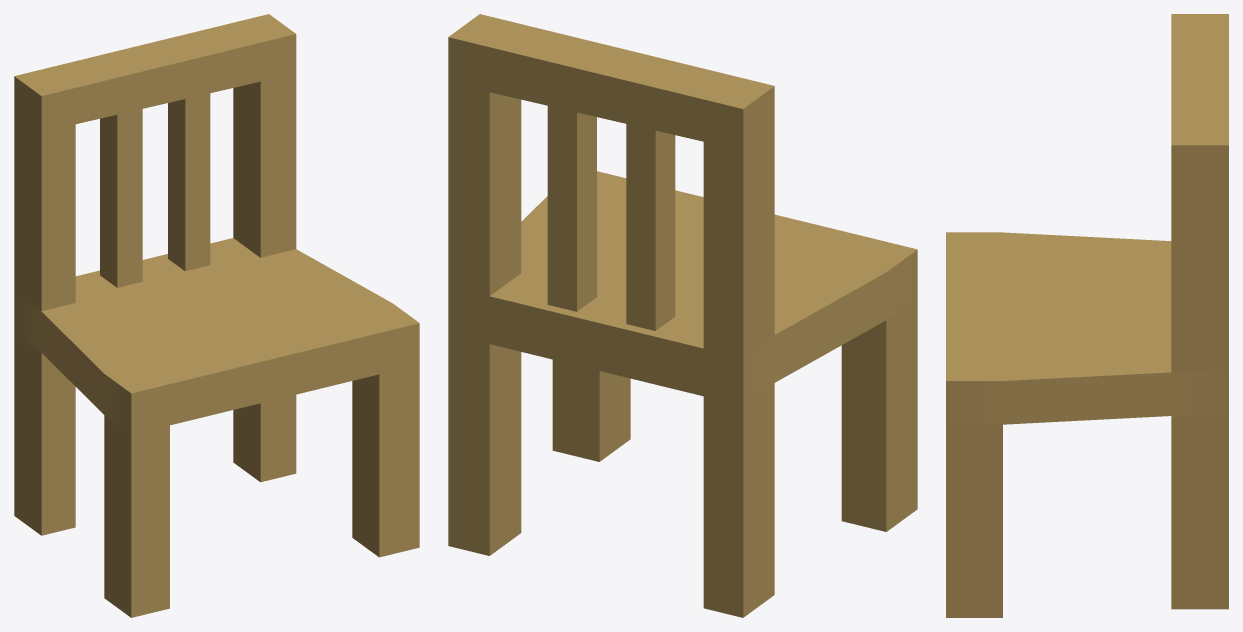
Rendered from Room_Chair.fbx.
The picture shows the model from 3 angles, left to right: view 1: azimuth 30°, elevation 25°; view 2: azimuth 150°, elevation 25°; view 3: azimuth 270°, elevation 25°; orthographic projection. The views are drawn at different scales.
Visible parts, largest first — view 1: Chair02; view 2: Chair02; view 3: Chair02.
Boxes of the visible parts, <box> form: Chair02: <box>14,14,419,617</box>; Chair02: <box>448,14,917,617</box>; Chair02: <box>946,14,1228,617</box>.
Bounding box in the file's own units: 0.6829 × 0.9945 × 0.5493.
Materials: 1 (1 with a texture image).
